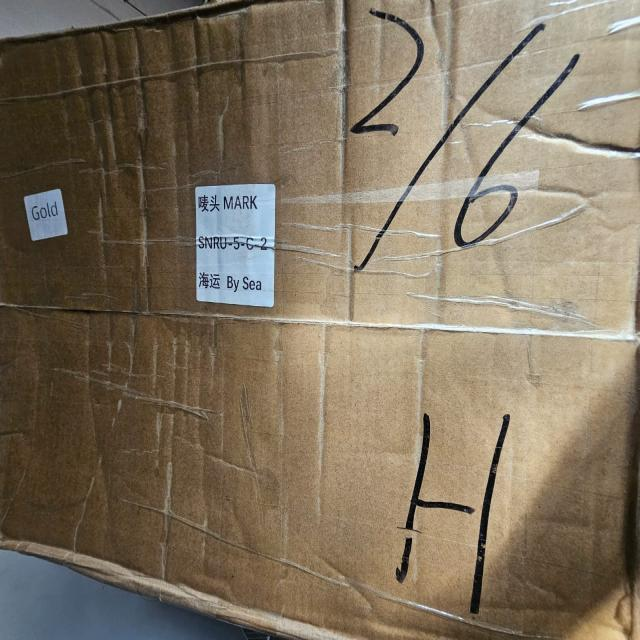carton_box: (0, 0, 640, 640)
export_mark_label: (185, 171, 305, 326)
package_damage: (0, 518, 179, 604)
